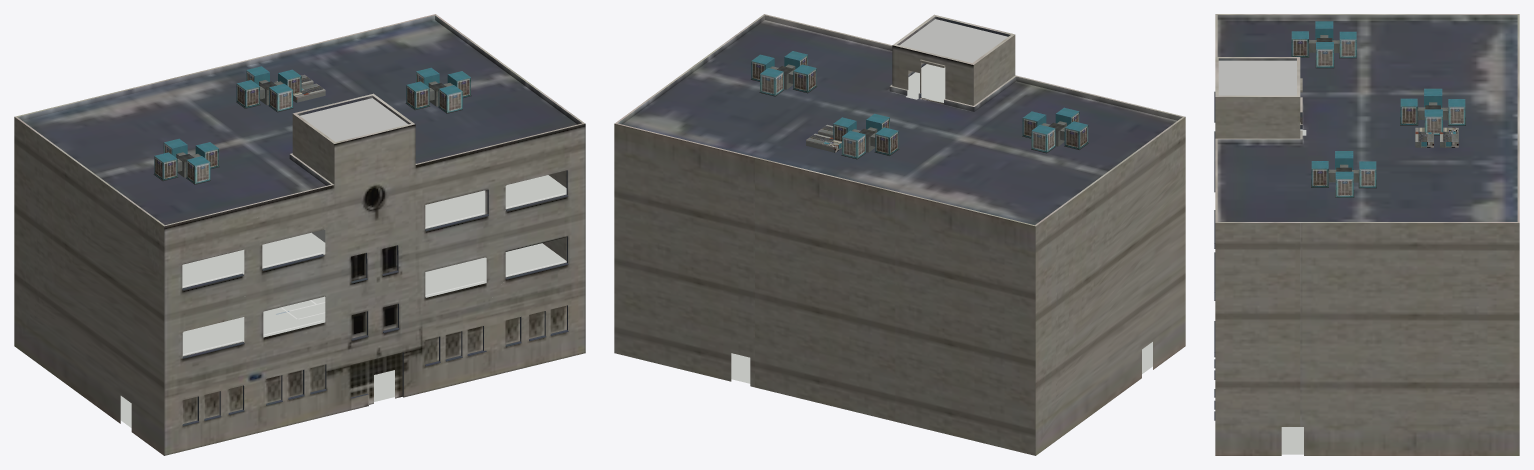
Rendered from hospital.access-v9.lod1.glb.
3 views of the same model, side by side, from view 1: azimuth 30°, elevation 25°; view 2: azimuth 150°, elevation 25°; view 3: azimuth 270°, elevation 25° (orthographic).
Visible parts, largest first — view 1: Building00_House_0, Walkable floors and stairs (×3), Building00_Building_Roof_Detail_0; view 2: Building00_House_0, Building00_Building_Roof_Detail_0, Walkable floors and stairs (×2); view 3: Building00_House_0, Building00_Building_Roof_Detail_0, Walkable floors and stairs (×2).
Part boxes in pixels (bbox=[...]): Building00_House_0: bbox=[14, 14, 585, 455]; Walkable floors and stairs (×3): bbox=[120, 98, 566, 427]; Building00_Building_Roof_Detail_0: bbox=[153, 66, 471, 184]; Building00_House_0: bbox=[614, 14, 1185, 455]; Building00_Building_Roof_Detail_0: bbox=[750, 51, 1088, 159]; Walkable floors and stairs (×2): bbox=[731, 19, 1152, 383]; Building00_House_0: bbox=[1214, 14, 1519, 455]; Building00_Building_Roof_Detail_0: bbox=[1291, 21, 1465, 197]; Walkable floors and stairs (×2): bbox=[1218, 60, 1306, 454].
Size of the model in its own units: 40 by 24.53 by 24.73.
Materials: 6 (2 with a texture image).
